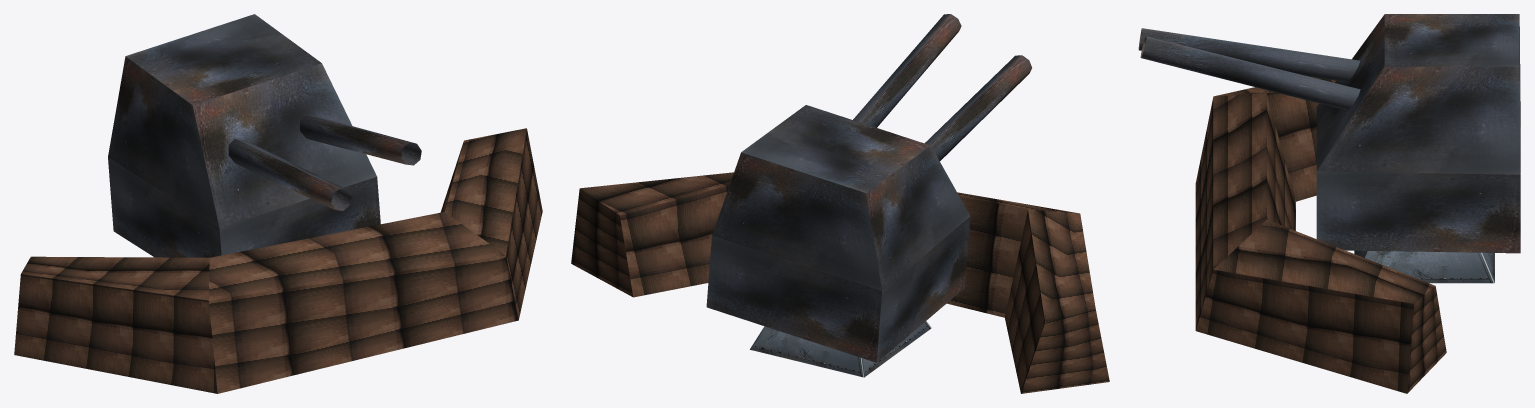
The model's file is aagunruin.gltf.
3 views of the same model, side by side, from view 1: azimuth 30°, elevation 25°; view 2: azimuth 150°, elevation 25°; view 3: azimuth 270°, elevation 25° (orthographic). The views are drawn at different scales.
Visible parts, largest first — view 1: aagunruin_atomic1, aagunruin_atomic0; view 2: aagunruin_atomic0, aagunruin_atomic1; view 3: aagunruin_atomic0, aagunruin_atomic1.
Part boxes in pixels (bbox=[...]): aagunruin_atomic1: bbox=[14, 128, 542, 393]; aagunruin_atomic0: bbox=[108, 14, 421, 257]; aagunruin_atomic0: bbox=[706, 14, 1031, 362]; aagunruin_atomic1: bbox=[571, 172, 1109, 393]; aagunruin_atomic0: bbox=[1138, 14, 1520, 253]; aagunruin_atomic1: bbox=[1195, 77, 1494, 393].
Size of the model in its own units: 37.5 by 15.11 by 22.76.
3 materials, 3 textured.
